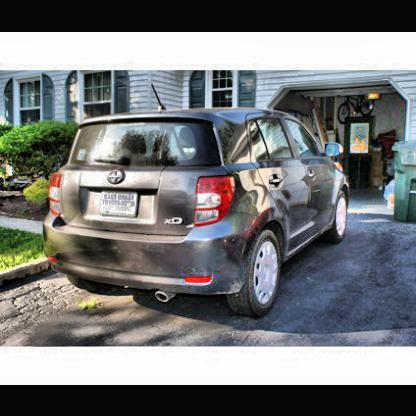Scion xD Hatchback 2012: (43, 108, 356, 324)
